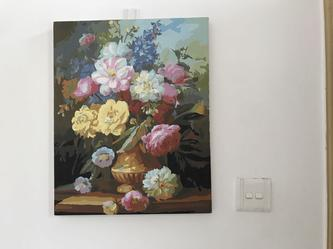switch: (243, 190, 253, 199), (255, 192, 264, 201)
